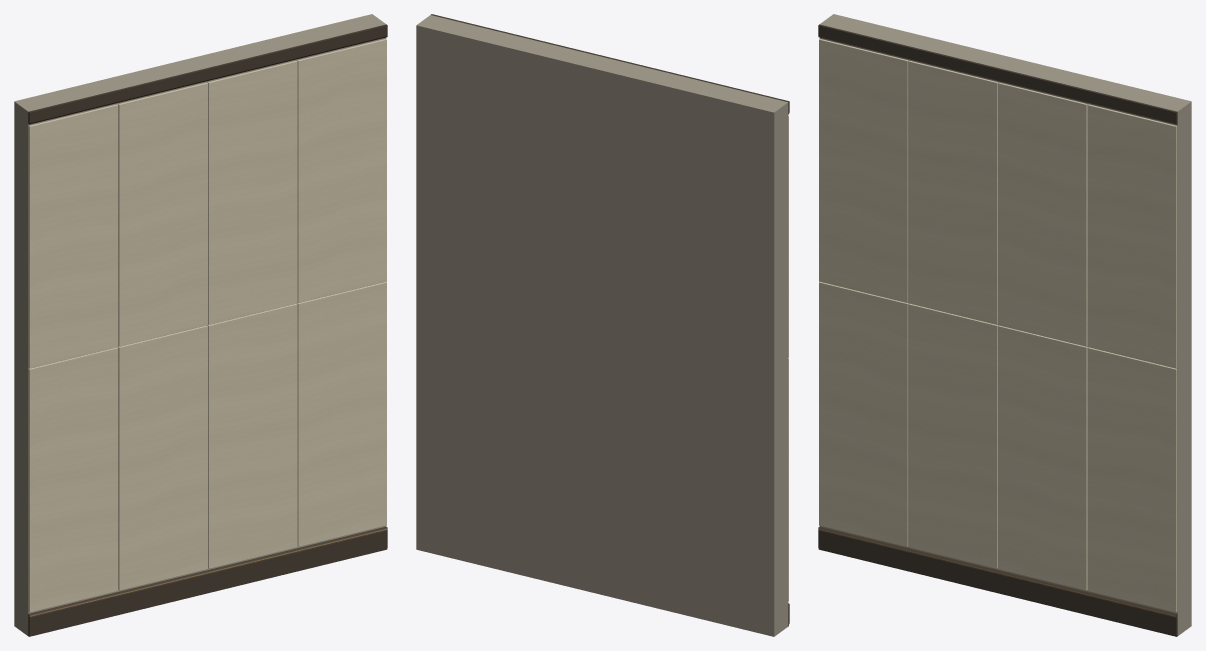
The model's file is mall-wall-module-2m.glb.
3 renders of one model, left to right at view 1: azimuth 30°, elevation 25°; view 2: azimuth 150°, elevation 25°; view 3: azimuth 330°, elevation 25°, orthographic.
Parts seen in each view (by area): view 1: Honed limestone 1-1, Honed limestone 2-1, Honed limestone 1-2, Honed limestone 1-3, Honed limestone 1-4, Honed limestone 2-3, Honed limestone 2-2, Honed limestone 2-4, Continuous backing LOD0, Folded bronze plinth and brass lip, Bronze trims LOD0; view 2: Continuous backing LOD0, Bronze trims LOD0; view 3: Honed limestone 1-4, Honed limestone 2-4, Honed limestone 1-3, Honed limestone 1-2, Honed limestone 1-1, Honed limestone 2-2, Honed limestone 2-1, Honed limestone 2-3, Continuous backing LOD0, Folded bronze plinth and brass lip, Bronze trims LOD0.
Part boxes in pixels (<box>): Honed limestone 1-1: <box>28,347,118,612</box>; Honed limestone 2-1: <box>28,104,118,368</box>; Honed limestone 1-2: <box>118,325,207,590</box>; Honed limestone 1-3: <box>207,303,297,568</box>; Honed limestone 1-4: <box>297,282,386,546</box>; Honed limestone 2-3: <box>207,60,297,324</box>; Honed limestone 2-2: <box>118,82,207,346</box>; Honed limestone 2-4: <box>297,39,386,302</box>; Continuous backing LOD0: <box>14,14,386,635</box>; Folded bronze plinth and brass lip: <box>28,526,387,636</box>; Bronze trims LOD0: <box>28,24,387,124</box>; Continuous backing LOD0: <box>416,15,788,636</box>; Bronze trims LOD0: <box>431,14,789,114</box>; Honed limestone 1-4: <box>1087,347,1177,612</box>; Honed limestone 2-4: <box>1087,104,1177,368</box>; Honed limestone 1-3: <box>998,325,1087,590</box>; Honed limestone 1-2: <box>908,303,998,568</box>; Honed limestone 1-1: <box>819,282,908,546</box>; Honed limestone 2-2: <box>908,60,998,324</box>; Honed limestone 2-1: <box>819,39,908,302</box>; Honed limestone 2-3: <box>998,82,1087,346</box>; Continuous backing LOD0: <box>819,14,1191,635</box>; Folded bronze plinth and brass lip: <box>818,526,1177,636</box>; Bronze trims LOD0: <box>818,24,1177,124</box>.
Size of the model in its own units: 2 by 2.8 by 0.15.
4 materials, 1 textured.
